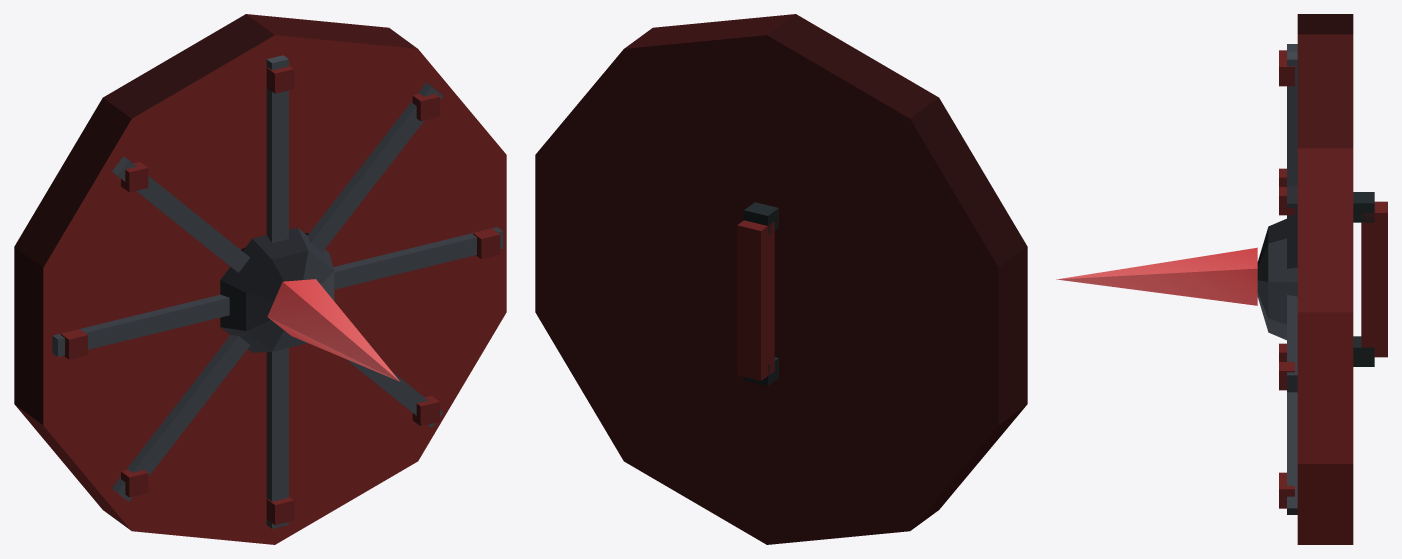
Rendered from barb_off_3.gltf.
3 renders of one model, left to right at view 1: azimuth 30°, elevation 25°; view 2: azimuth 150°, elevation 25°; view 3: azimuth 270°, elevation 25°, orthographic. The views are drawn at different scales.
Parts seen in each view (by area): view 1: barb_off_3; view 2: barb_off_3; view 3: barb_off_3.
Part boxes in pixels (left/top/right/bottom): barb_off_3: left=14, top=14, right=506, bottom=544; barb_off_3: left=535, top=14, right=1027, bottom=544; barb_off_3: left=1056, top=14, right=1387, bottom=544.
Size of the model in its own units: 0.9693 by 1.02 by 0.625.
1 material, 1 textured.
